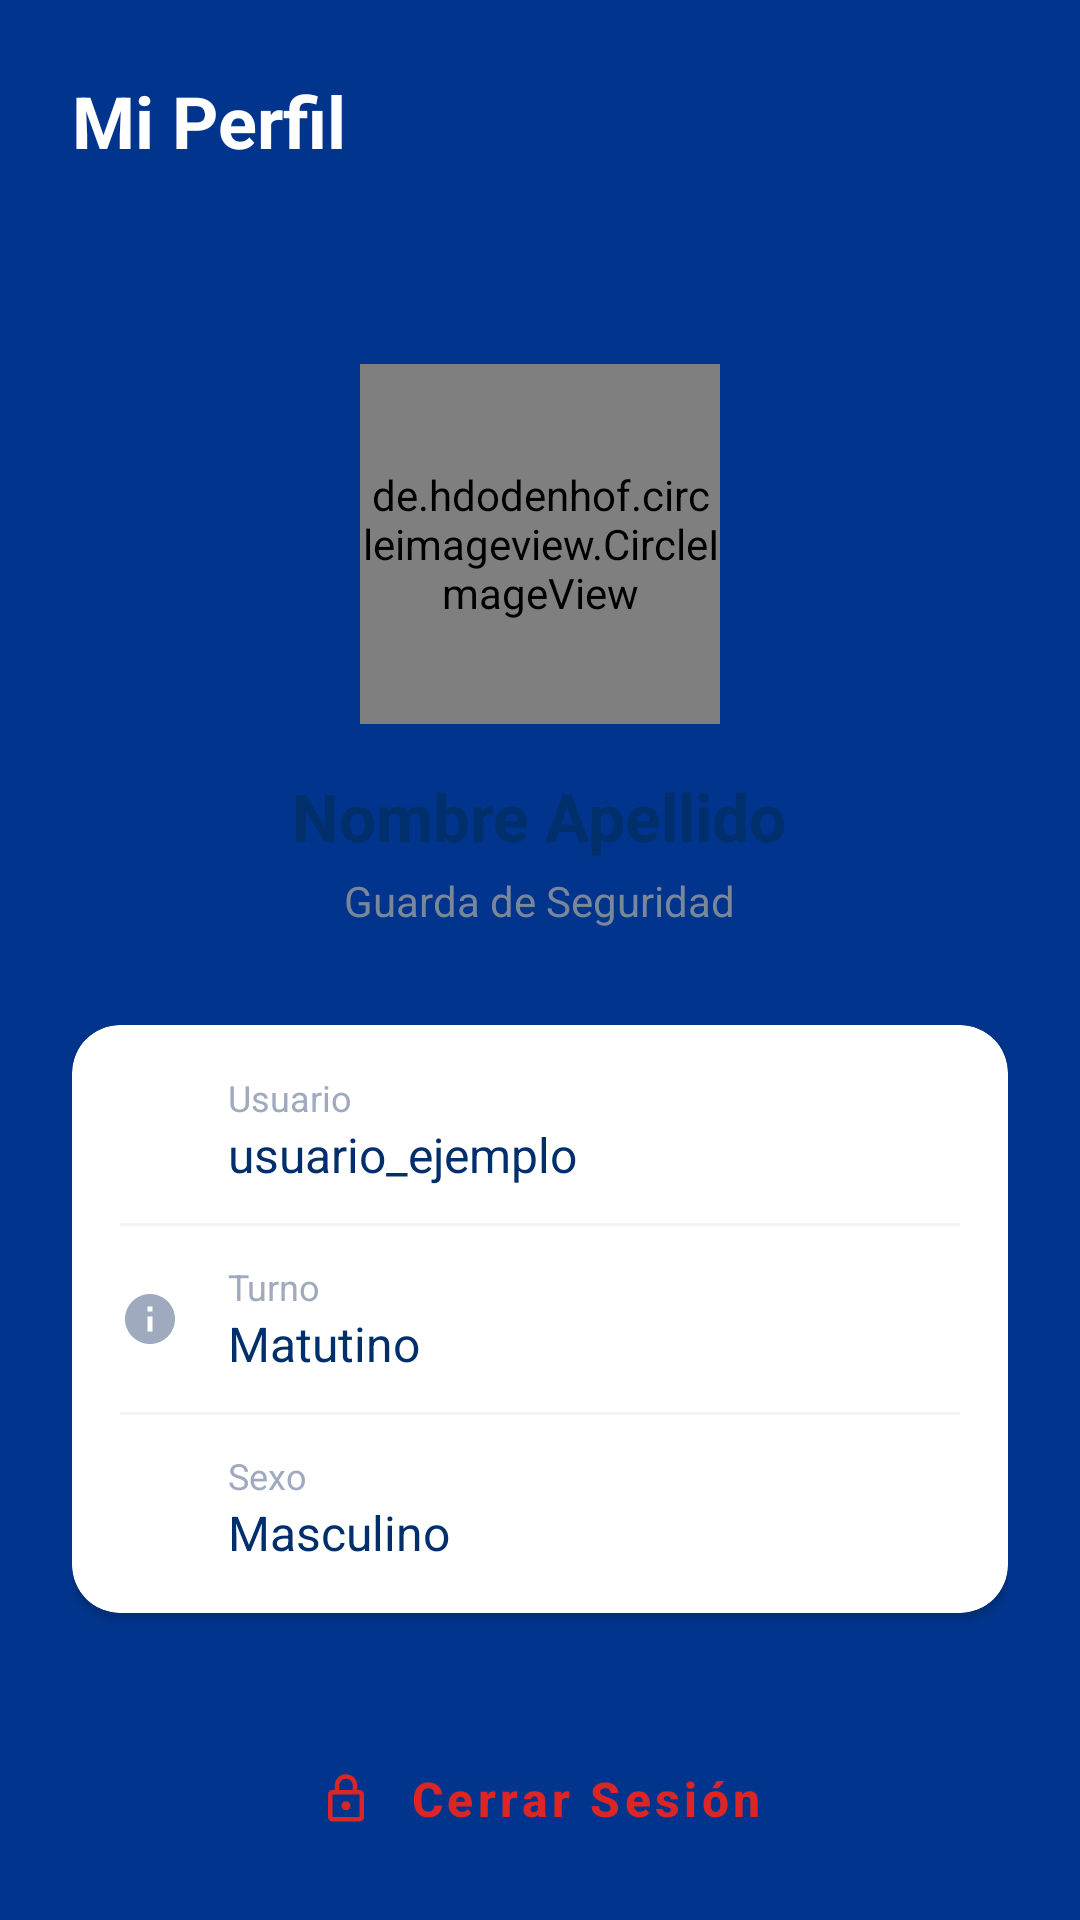

Point at icon controls on the screen. Image size 1080px×1920px, points as point (x, y).
info: point (150, 1319)
